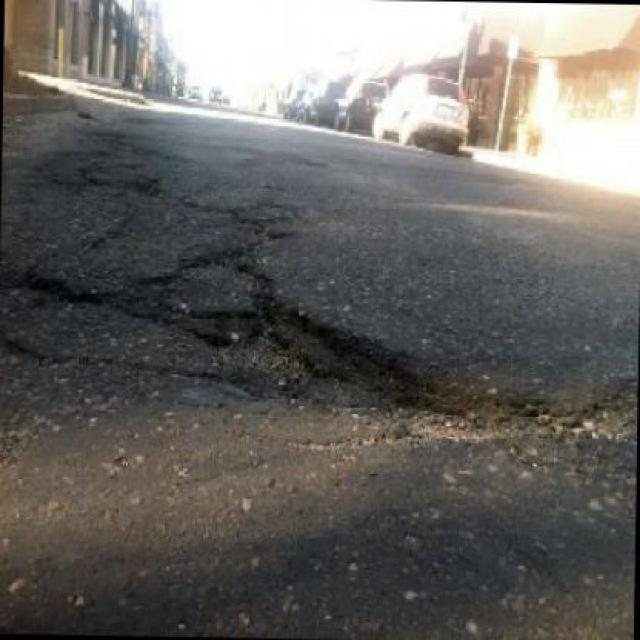pothole: (202, 288, 516, 448), (538, 391, 638, 447)
